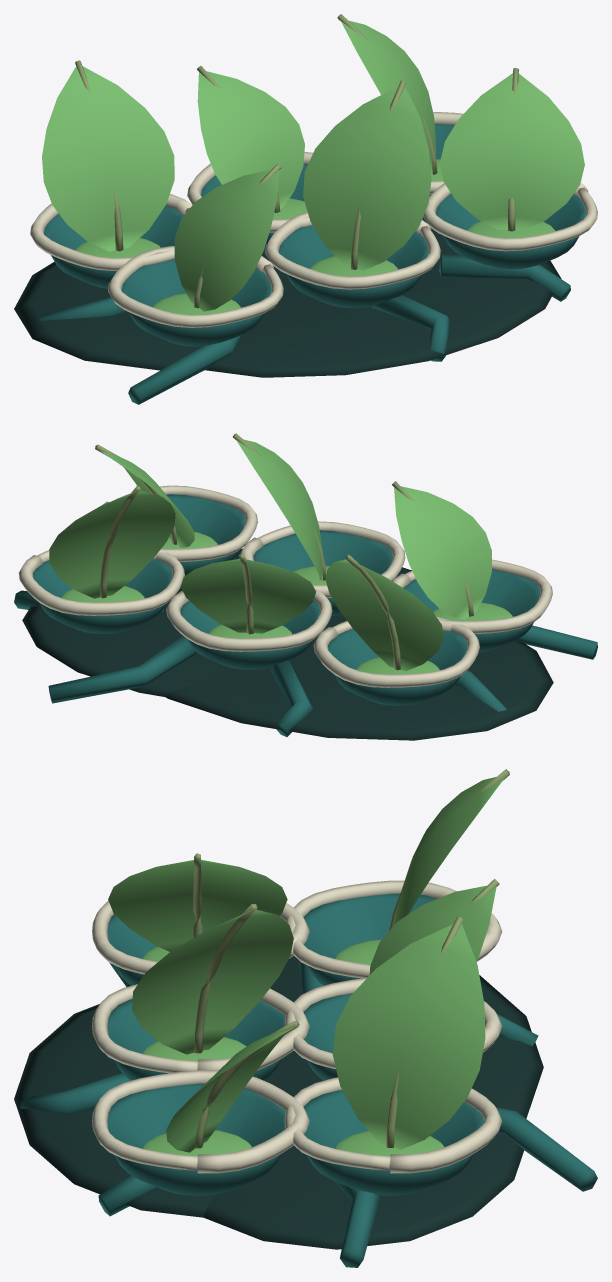
File: building_photosynthetic_field_a.obj
3 renders of one model, top to bottom at view 1: azimuth 30°, elevation 25°; view 2: azimuth 150°, elevation 25°; view 3: azimuth 270°, elevation 25°, orthographic. The views are drawn at different scales.
Visible parts, largest first — view 1: irregular_anchoring_lobe.053, bent_living_blade.052, bent_living_blade.050, bent_living_blade.051, bent_living_blade.049, bent_living_blade.053, irregular_anchoring_lobe.051, open_living_cup.047, open_living_cup.048, bent_living_blade.054, open_living_cup.049, grown_cup_lip.047 (+16 smaller); view 2: irregular_anchoring_lobe.051, bent_living_blade.049, bent_living_blade.054, irregular_anchoring_lobe.052, bent_living_blade.052, bent_living_blade.053, open_living_cup.050, bent_living_blade.050, open_living_cup.052, open_living_cup.048, grown_cup_lip.050, grown_cup_lip.052 (+20 smaller); view 3: bent_living_blade.054, irregular_anchoring_lobe.052, bent_living_blade.050, irregular_anchoring_lobe.053, bent_living_blade.049, open_living_cup.049, irregular_anchoring_lobe.051, grown_cup_lip.049, open_living_cup.052, grown_cup_lip.052, open_living_cup.050, bent_living_blade.053 (+21 smaller).
Boxes of the visible parts, bbox=[...] form: irregular_anchoring_lobe.053: bbox=[204, 257, 561, 377]; bent_living_blade.052: bbox=[42, 66, 174, 251]; bent_living_blade.050: bbox=[303, 86, 431, 270]; bent_living_blade.051: bbox=[440, 73, 584, 230]; bent_living_blade.049: bbox=[174, 169, 279, 311]; bent_living_blade.053: bbox=[197, 71, 304, 208]; irregular_anchoring_lobe.051: bbox=[14, 250, 292, 370]; open_living_cup.047: bbox=[121, 259, 271, 346]; open_living_cup.048: bbox=[278, 225, 428, 308]; bent_living_blade.054: bbox=[341, 20, 435, 177]; open_living_cup.049: bbox=[436, 193, 585, 269]; grown_cup_lip.047: bbox=[108, 246, 283, 327]; irregular_anchoring_lobe.051: bbox=[166, 627, 553, 740]; bent_living_blade.049: bbox=[394, 486, 491, 619]; bent_living_blade.054: bbox=[49, 490, 175, 598]; irregular_anchoring_lobe.052: bbox=[22, 587, 228, 696]; bent_living_blade.052: bbox=[325, 559, 443, 671]; bent_living_blade.053: bbox=[180, 559, 315, 633]; open_living_cup.050: bbox=[328, 628, 467, 705]; bent_living_blade.050: bbox=[236, 439, 322, 582]; open_living_cup.052: bbox=[33, 559, 172, 634]; open_living_cup.048: bbox=[253, 530, 392, 616]; grown_cup_lip.050: bbox=[313, 616, 479, 687]; grown_cup_lip.052: bbox=[18, 550, 184, 615]; bent_living_blade.054: bbox=[332, 924, 485, 1149]; irregular_anchoring_lobe.052: bbox=[203, 1094, 523, 1249]; bent_living_blade.050: bbox=[131, 909, 293, 1054]; irregular_anchoring_lobe.053: bbox=[14, 1004, 282, 1217]; bent_living_blade.049: bbox=[108, 859, 287, 951]; open_living_cup.049: bbox=[107, 1083, 285, 1195]; irregular_anchoring_lobe.051: bbox=[270, 956, 543, 1118]; grown_cup_lip.049: bbox=[92, 1070, 309, 1173]; open_living_cup.052: bbox=[303, 1090, 484, 1195]; grown_cup_lip.052: bbox=[284, 1077, 502, 1173]; open_living_cup.050: bbox=[303, 893, 436, 985]; bent_living_blade.053: bbox=[369, 885, 496, 974].
Bounding box in the file's own units: 3.59 × 1.31 × 2.73.
